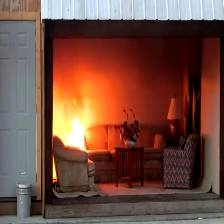fire: (58, 96, 89, 144)
